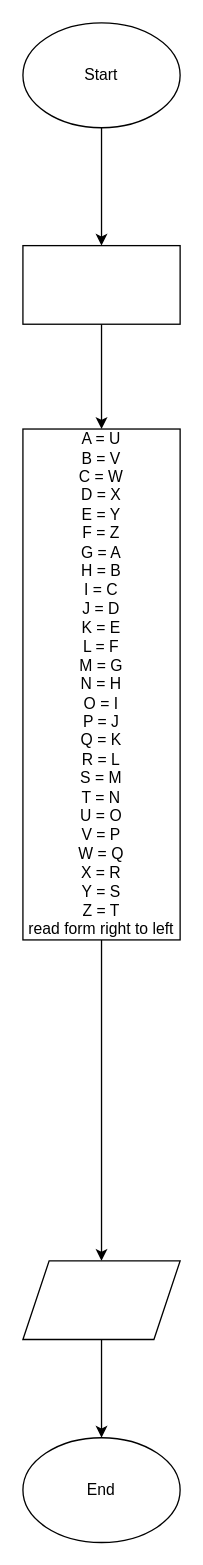
Some shapes in this 203 by 1565 pixel diagram are drawn without their labels. Each missing label, with the box of its shape:
Output Word: (22, 1260, 180, 1339)
Read flie: (22, 244, 180, 324)
